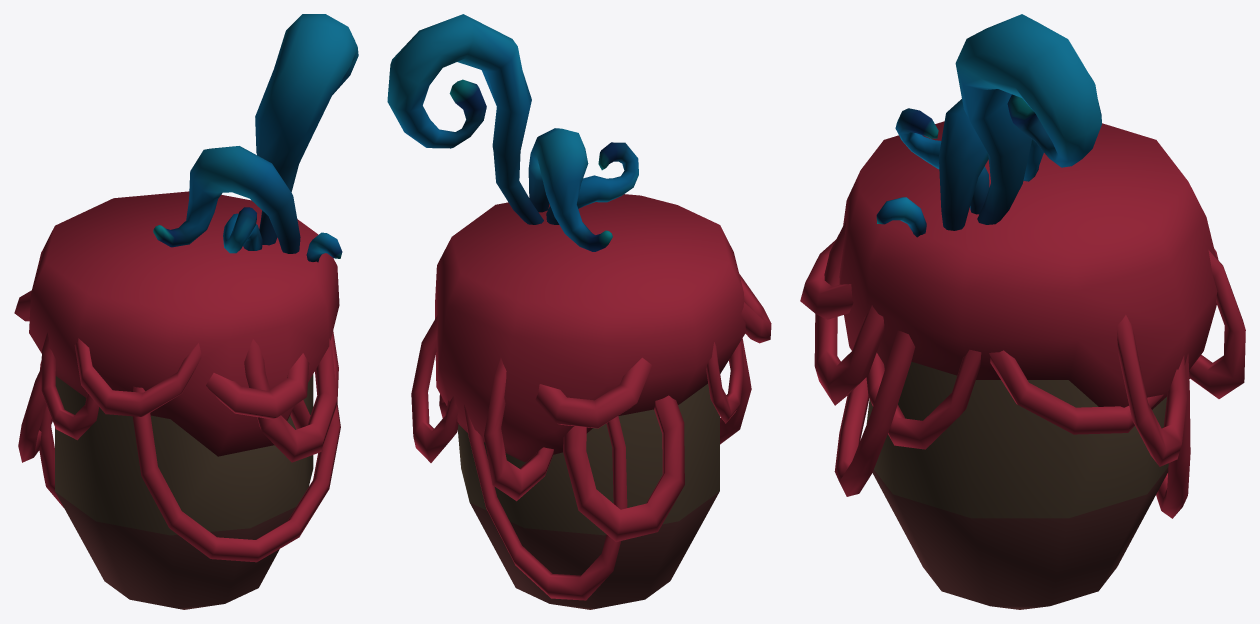
The model's file is Alien_Island19.fbx.
The picture shows the model from 3 angles, left to right: view 1: azimuth 30°, elevation 25°; view 2: azimuth 150°, elevation 25°; view 3: azimuth 270°, elevation 25°; orthographic projection. The views are drawn at different scales.
Visible parts, largest first — view 1: Alien_Island19; view 2: Alien_Island19; view 3: Alien_Island19.
Boxes of the visible parts, x1,y1,x2,y2 form: Alien_Island19: [14, 14, 358, 609]; Alien_Island19: [387, 14, 771, 609]; Alien_Island19: [800, 14, 1245, 609].
Size of the model in its own units: 3877 by 6431 by 3909.
